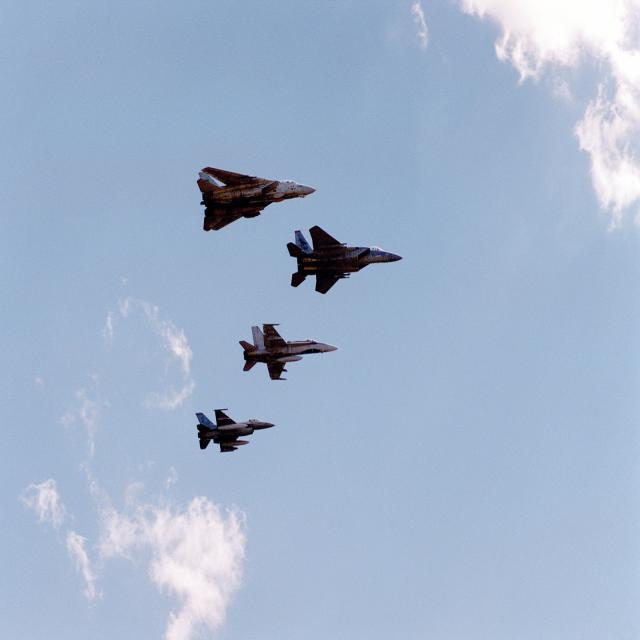MIL_Plane: (286, 223, 403, 294), (197, 166, 317, 232), (237, 323, 341, 381), (195, 407, 277, 453)
